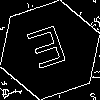E: (25, 25, 73, 79)
